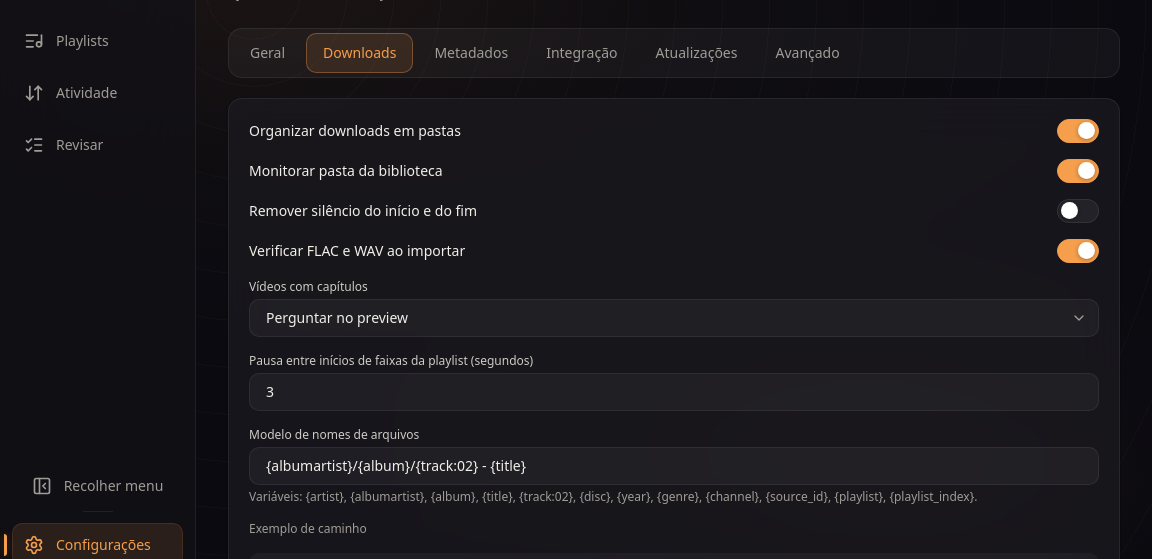
Scenario: F09: nomes, metadados e concluídos › ignora uma resposta de prévia que chegou depois da edição seguinte
Clear the field labelled "Modelo de nomes de arquivos". click: (674, 466)
box: 249,447 -> 1099,485
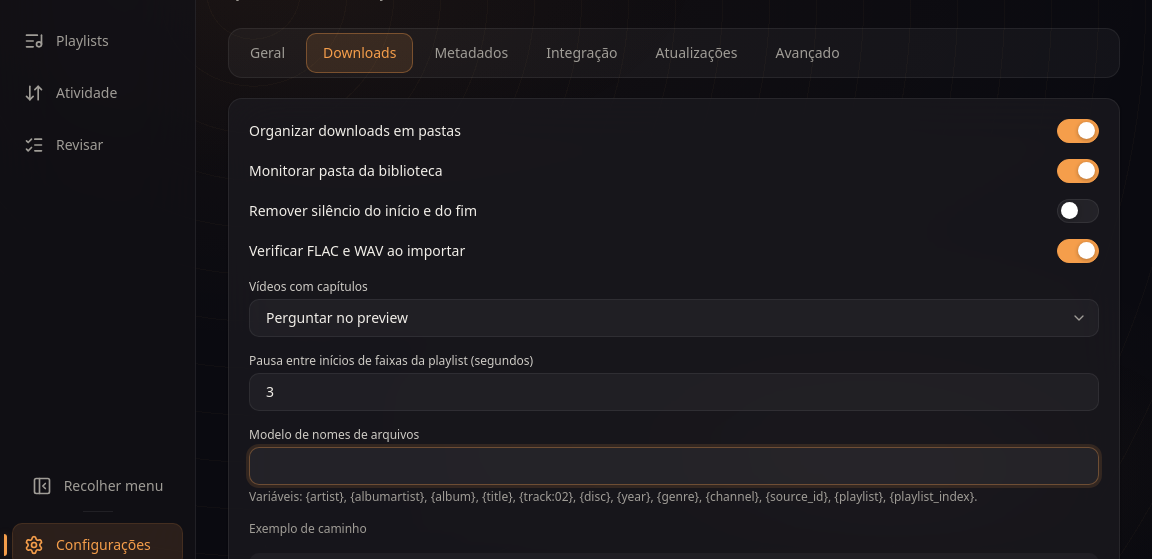
Press Title
(page scrolled)
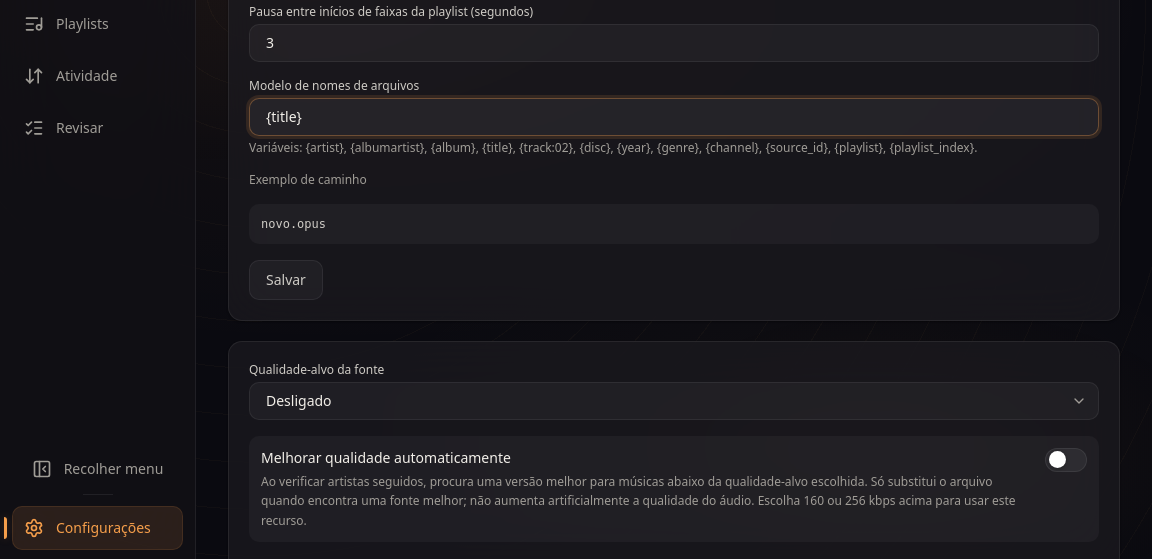
Now the text with test id "template-preview" reads "novo.opus", box 261,217 -> 326,231
